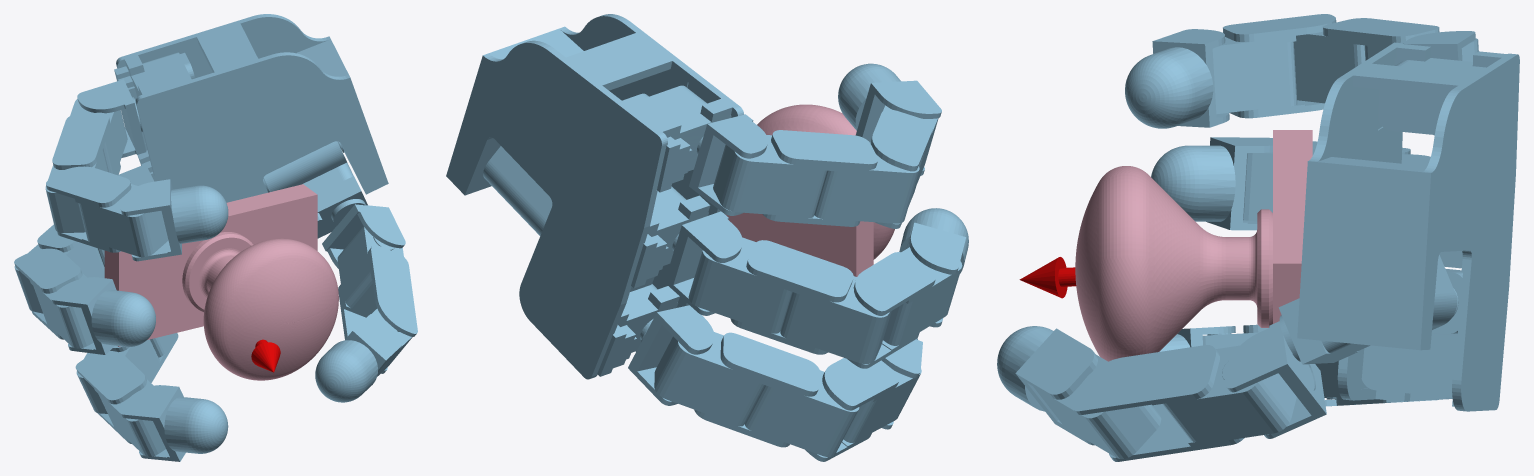
3 renders of one model, left to right at view 1: azimuth 30°, elevation 25°; view 2: azimuth 150°, elevation 25°; view 3: azimuth 270°, elevation 25°, orthographic. The views are drawn at different scales.
Visible parts, largest first — view 1: world, door_knob.stl; view 2: world, door_knob.stl; view 3: world, door_knob.stl.
Part boxes in pixels (left/top/right/bottom): world: left=14, top=14, right=417, bottom=461; door_knob.stl: left=104, top=184, right=338, bottom=380; world: left=446, top=14, right=968, bottom=461; door_knob.stl: left=725, top=104, right=894, bottom=276; world: left=997, top=14, right=1519, bottom=461; door_knob.stl: left=1075, top=130, right=1312, bottom=361.
Size of the model in its own units: 0.1867 by 0.1591 by 0.1653.
